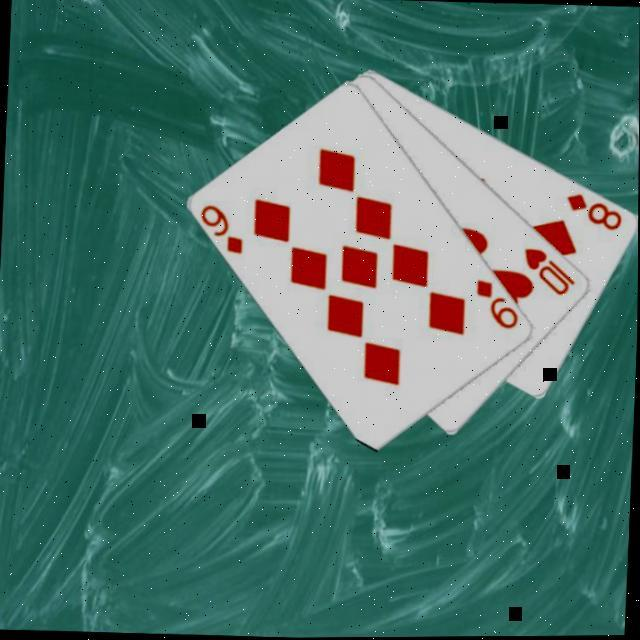10H: (522, 246, 582, 301)
8D: (564, 191, 628, 236)
9D: (473, 278, 525, 336), (198, 202, 250, 259)
